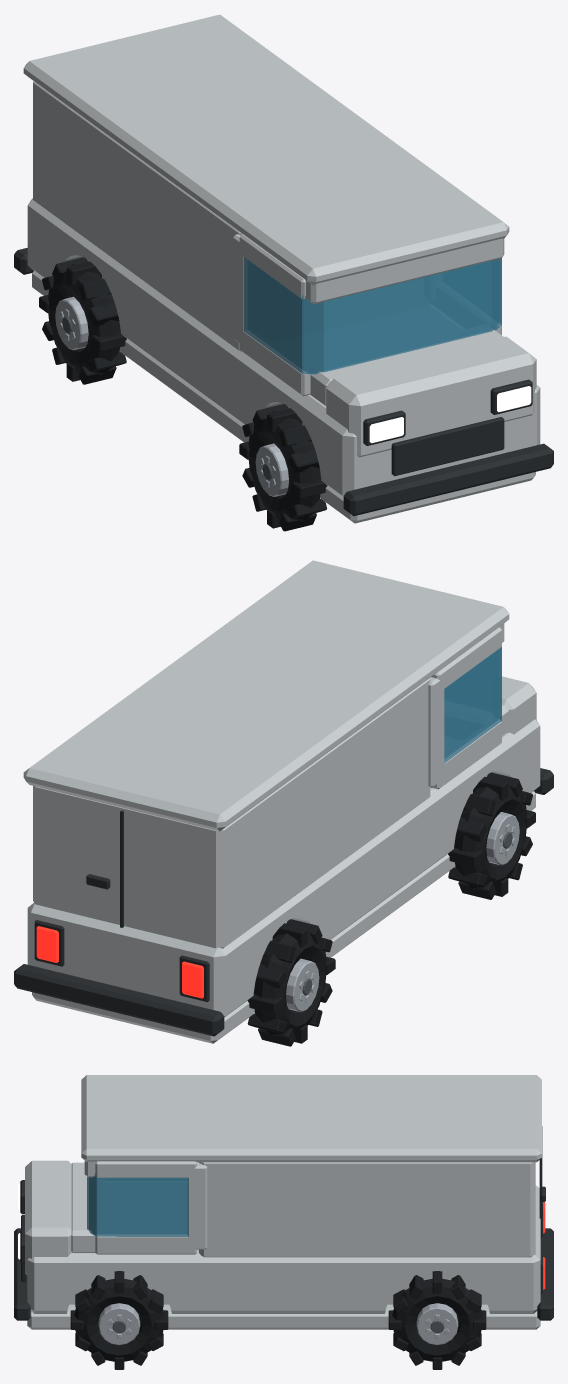
File: Van.glb
3 views of the same model, one above another, from view 1: azimuth 30°, elevation 25°; view 2: azimuth 150°, elevation 25°; view 3: azimuth 270°, elevation 25° (orthographic). The views are drawn at different scales.
Parts seen in each view (by area): view 1: BodyPaint_Mesh, Glass_Mesh, Trim_Mesh, Wheel_RL_Tire, Wheel_FL_Tire, Wheel_RL_Hub, Wheel_FL_Hub, HeadlightGlow_R, HeadlightGlow_L; view 2: BodyPaint_Mesh, Trim_Mesh, Wheel_FL_Tire, Wheel_RL_Tire, Glass_Mesh, Wheel_FL_Hub, Wheel_RL_Hub, TailLightGlow_R, TailLightGlow_L; view 3: BodyPaint_Mesh, Glass_Mesh, Wheel_FR_Tire, Wheel_RR_Tire, Trim_Mesh, Wheel_FR_Hub, Wheel_RR_Hub.
Boxes of the visible parts, x1,y1,x2,y2 form: BodyPaint_Mesh: (23,14,540,523); Glass_Mesh: (244,257,501,374); Trim_Mesh: (14,248,553,516); Wheel_RL_Tire: (39,257,126,384); Wheel_FL_Tire: (239,404,327,531); Wheel_RL_Hub: (55,296,88,350); Wheel_FL_Hub: (255,443,288,496); HeadlightGlow_R: (497,386,531,412); HeadlightGlow_L: (369,417,403,443); BodyPaint_Mesh: (23,560,540,1043); Trim_Mesh: (14,768,553,1036); Wheel_FL_Tire: (448,772,535,899); Wheel_RL_Tire: (247,919,335,1046); Glass_Mesh: (444,647,501,763); Wheel_FL_Hub: (486,812,519,865); Wheel_RL_Hub: (286,958,319,1012); TailLightGlow_R: (36,926,58,962); TailLightGlow_L: (182,961,203,998); BodyPaint_Mesh: (25,1075,541,1329); Glass_Mesh: (87,1174,188,1236); Wheel_FR_Tire: (70,1271,168,1369); Wheel_RR_Tire: (388,1271,486,1369); Trim_Mesh: (14,1126,553,1320); Wheel_FR_Hub: (98,1303,140,1344); Wheel_RR_Hub: (416,1303,458,1344).
Size of what is drawn, in the model's own units: 2.4 by 2.54 by 5.84.
